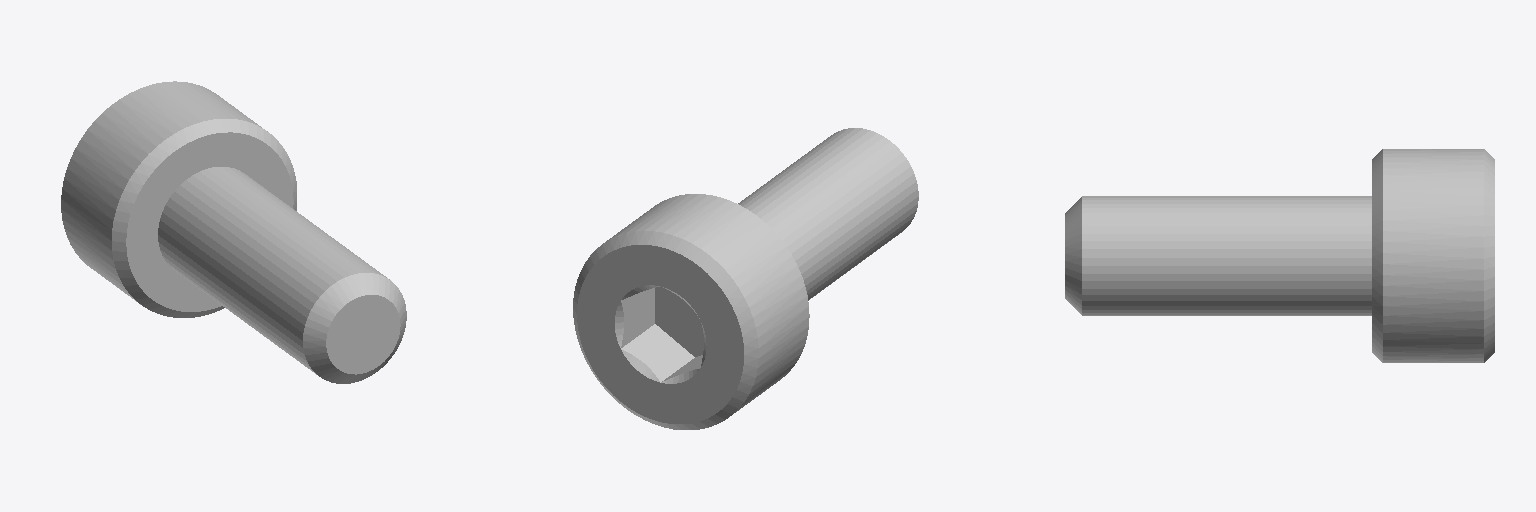
3 views of the same model, side by side, from view 1: azimuth 30°, elevation 25°; view 2: azimuth 150°, elevation 25°; view 3: azimuth 270°, elevation 25° (orthographic).
Parts seen in each view (by area): view 1: Body3, Body1; view 2: Body1, Body3; view 3: Body3, Body1.
Part boxes in pixels (left/top/right/bottom): Body3: left=158, top=167, right=406, bottom=383; Body1: left=61, top=81, right=296, bottom=317; Body1: left=573, top=194, right=809, bottom=429; Body3: left=738, top=128, right=918, bottom=300; Body3: left=1065, top=196, right=1371, bottom=315; Body1: left=1372, top=149, right=1494, bottom=362.
Bounding box in the file's own units: 0.7 × 0.6998 × 1.4.